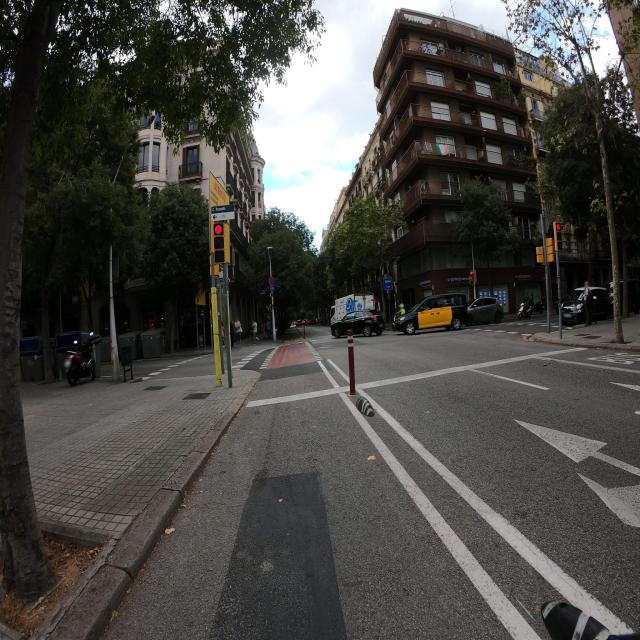bike: (64, 338, 100, 387), (524, 294, 545, 314), (392, 311, 406, 331), (517, 303, 534, 319)
car: (392, 292, 468, 336), (20, 335, 66, 382), (559, 286, 614, 325), (330, 309, 385, 339), (467, 296, 504, 326), (295, 320, 303, 327), (304, 319, 312, 326)
